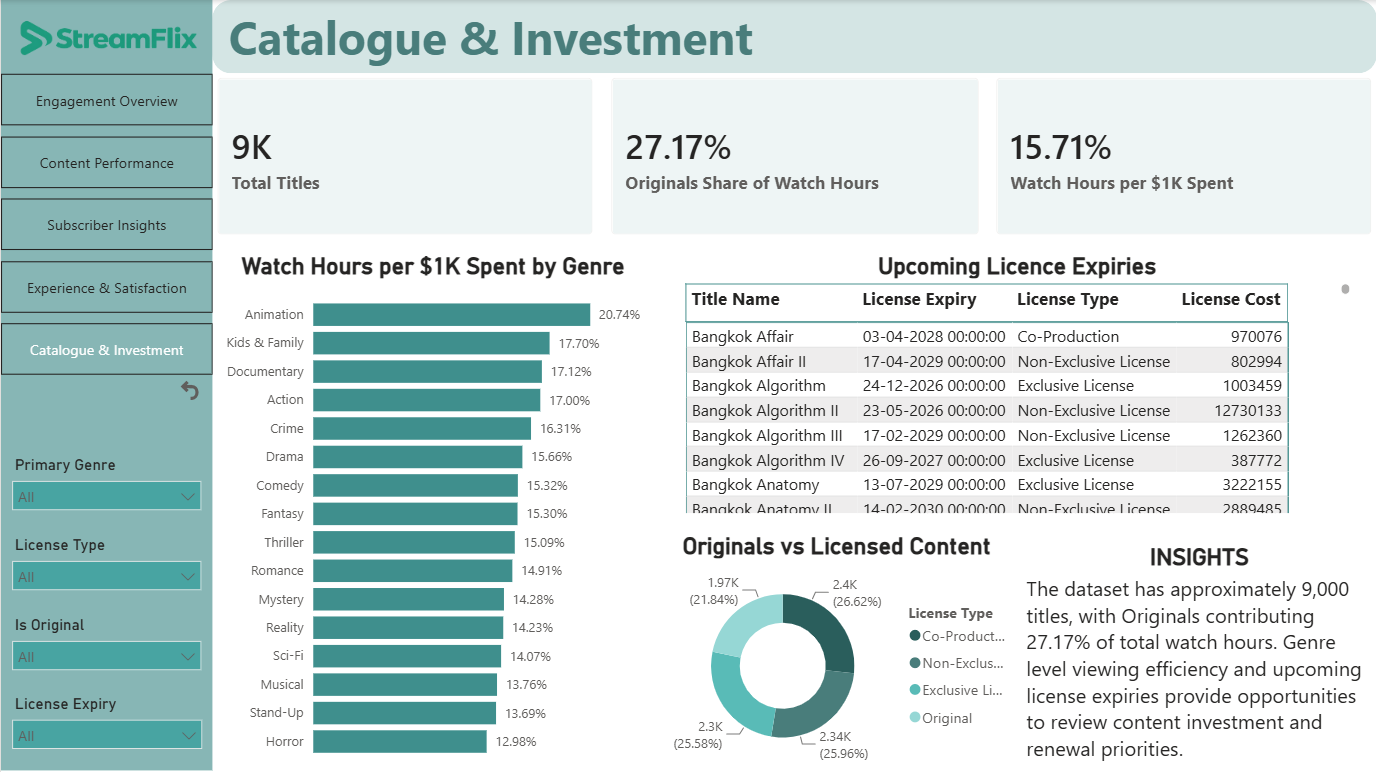

What the dashboard file says about the page in this screenshot:
{"tool":"powerbi","page":{"name":"Catalogue & Investment","canvas":[1280,720],"ordinal":4},"visuals":[{"type":"group","id":"g1","title":"Group 1","box":[196.5,67,1083.7,156.7],"z":0},{"type":"cardVisual","fields":{"Data":["public titles.Watch Hours per $1K Spent"]},"box":[921.1,67.4,359.1,156.3],"z":0,"group":"g1"},{"type":"shape","box":[0,0,196.7,716.7],"z":1000},{"type":"cardVisual","fields":{"Data":["public watch_history.Originals Share of Watch Hours (%)"]},"box":[563,67,352,156],"z":1000,"group":"g1"},{"type":"donutChart","title":"Originals vs Licensed Content","fields":{"Category":["public titles.license_type"],"Y":["Count(public titles.title_id)"]},"box":[606.6,495.5,343.1,224.5],"z":1000,"group":"g2"},{"type":"shape","box":[196.7,0,1083.3,68.3],"z":2000},{"type":"cardVisual","fields":{"Data":["public titles.Total Titles"]},"box":[196.5,67.4,359.1,156.3],"z":2000,"group":"g1"},{"type":"clusteredBarChart","title":"Watch Hours per $1K Spent by Genre","fields":{"Category":["public titles.primary_genre"],"Y":["public titles.Watch Hours per $1K Spent"]},"box":[198.2,235.5,408.6,481.4],"z":2000,"group":"g2"},{"type":"textbox","box":[207.1,0,862.9,68.6],"z":3000},{"type":"tableEx","title":"Upcoming Licence Expiries","fields":{"Values":["public titles.title_name","public titles.license_expiry","public titles.license_type","Sum(public titles.license_cost_usd)"]},"box":[630.5,235.7,625.2,247.8],"z":3000,"group":"g2"},{"type":"image","box":[0,0,197.1,68.6],"z":4000},{"type":"pageNavigator","box":[0,68.6,197.1,281.4],"z":5000},{"type":"actionButton","box":[162.8,350,35,26],"z":6000},{"type":"slicer","fields":{"Values":["public titles.primary_genre"]},"box":[0,418.6,196.6,74.2],"z":6000,"group":"g3"},{"type":"group","id":"g2","title":"Group 2","box":[198.2,235.5,1083.6,484.5],"z":7000},{"type":"slicer","fields":{"Values":["public titles.license_type"]},"box":[0,492.8,196.6,74.2],"z":7000,"group":"g3"},{"type":"group","id":"g3","title":"Group 3","box":[0,418.6,197.7,297.7],"z":8000},{"type":"slicer","fields":{"Values":["public titles.is_original"]},"box":[0,566.9,196.6,74.2],"z":8000,"group":"g3"},{"type":"textbox","title":"INSIGHTS","box":[949.7,495.5,332.1,221.5],"z":9000,"group":"g2"},{"type":"slicer","fields":{"Values":["public titles.license_expiry"]},"box":[0,640.2,197.5,75.9],"z":9000,"group":"g3"}]}

Visuals, with their boxes on the page's 1280x720 design canvas (x1, y1, x2, y2). These are canvas units, not pixel positions in the 1376x772 screenshot, which may show the page scaled, cropped or inside an application window:
"Group 1" group: x1=196, y1=67, x2=1280, y2=224
cardVisual - public titles.Watch Hours per $1K Spent: x1=921, y1=67, x2=1280, y2=224
shape: x1=0, y1=0, x2=197, y2=717
cardVisual - public watch_history.Originals Share of Watch Hours (%): x1=563, y1=67, x2=915, y2=223
"Originals vs Licensed Content" donutChart: x1=607, y1=496, x2=950, y2=720
shape: x1=197, y1=0, x2=1280, y2=68
cardVisual - public titles.Total Titles: x1=196, y1=67, x2=556, y2=224
"Watch Hours per $1K Spent by Genre" clusteredBarChart: x1=198, y1=236, x2=607, y2=717
textbox: x1=207, y1=0, x2=1070, y2=69
"Upcoming Licence Expiries" tableEx: x1=630, y1=236, x2=1256, y2=484
image: x1=0, y1=0, x2=197, y2=69
pageNavigator: x1=0, y1=69, x2=197, y2=350
actionButton: x1=163, y1=350, x2=198, y2=376
slicer - public titles.primary_genre: x1=0, y1=419, x2=197, y2=493
"Group 2" group: x1=198, y1=236, x2=1282, y2=720
slicer - public titles.license_type: x1=0, y1=493, x2=197, y2=567
"Group 3" group: x1=0, y1=419, x2=198, y2=716
slicer - public titles.is_original: x1=0, y1=567, x2=197, y2=641
"INSIGHTS" textbox: x1=950, y1=496, x2=1282, y2=717
slicer - public titles.license_expiry: x1=0, y1=640, x2=198, y2=716
